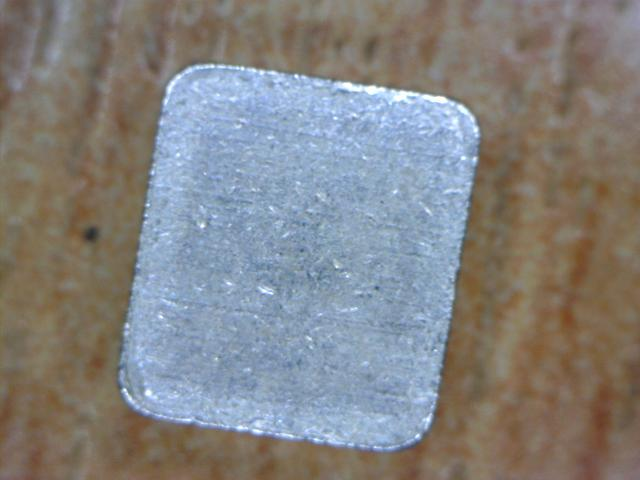ok: (114, 55, 490, 461)
